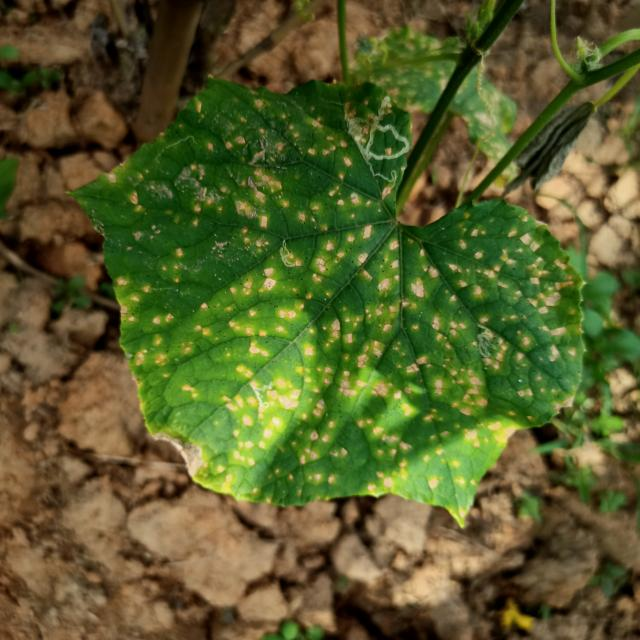disease_cucumber: (127, 110, 568, 492)
